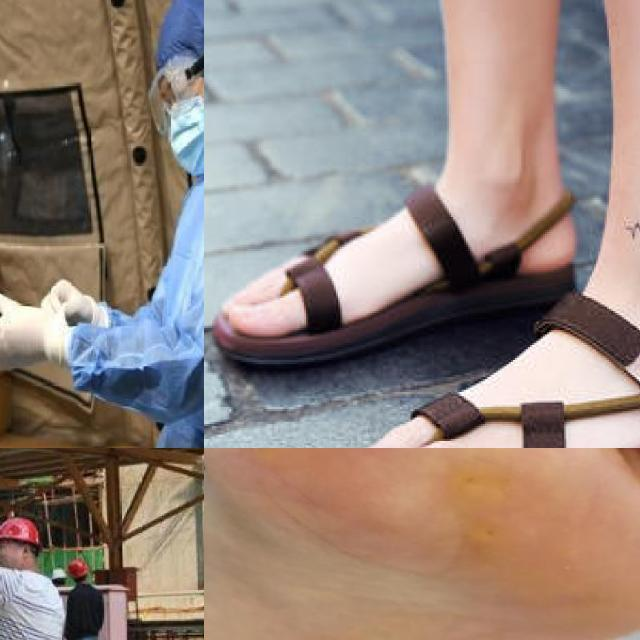Barefoots: (204, 448, 640, 640)
Sandals: (208, 163, 576, 362), (339, 286, 640, 448)
face_mask: (153, 74, 204, 172)
face_nomask: (0, 538, 11, 569)
glasses: (140, 56, 200, 131)
hand_glove: (0, 291, 45, 371), (41, 278, 98, 324)
head_helmet: (0, 517, 41, 546), (66, 558, 86, 579)
head_nohelmet: (152, 0, 204, 75)
person: (0, 0, 204, 448), (0, 511, 70, 640), (62, 554, 117, 640)
